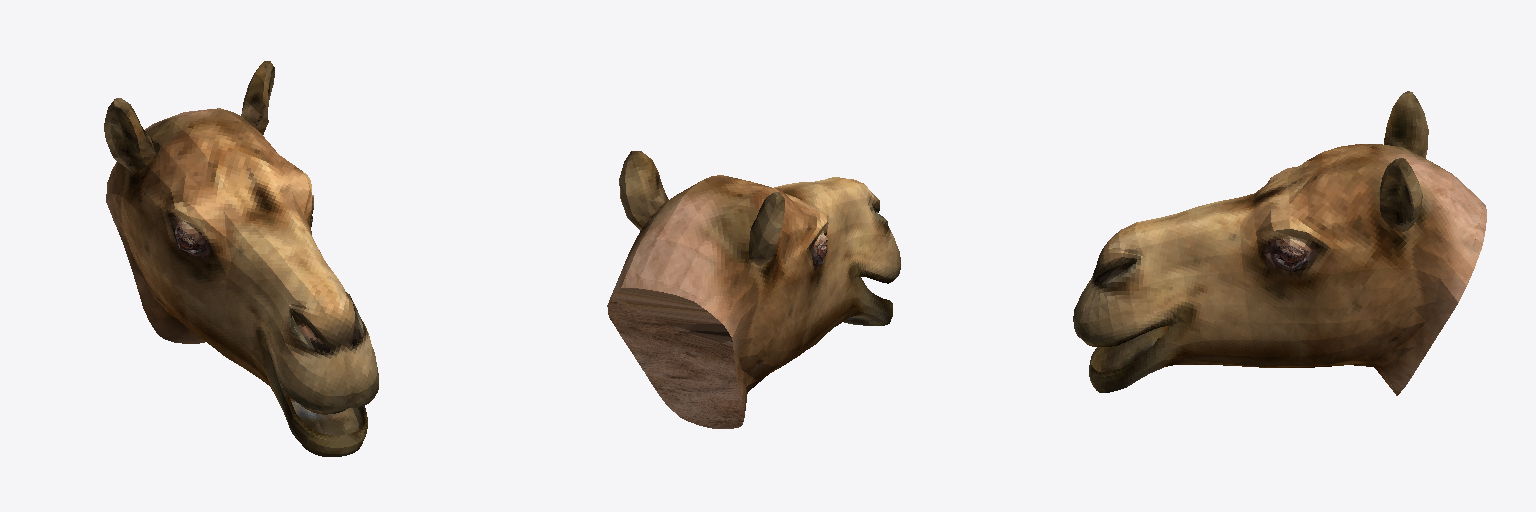
3 renders of one model, left to right at view 1: azimuth 30°, elevation 25°; view 2: azimuth 150°, elevation 25°; view 3: azimuth 270°, elevation 25°, orthographic.
Parts seen in each view (by area): view 1: Cabeza; view 2: Cabeza; view 3: Cabeza.
Part boxes in pixels (bbox=[...]): Cabeza: bbox=[104, 61, 378, 456]; Cabeza: bbox=[607, 151, 900, 428]; Cabeza: bbox=[1073, 91, 1486, 395].
Bounding box in the file's own units: 0.247 × 0.3747 × 0.5317.
Materials: 1 (1 with a texture image).